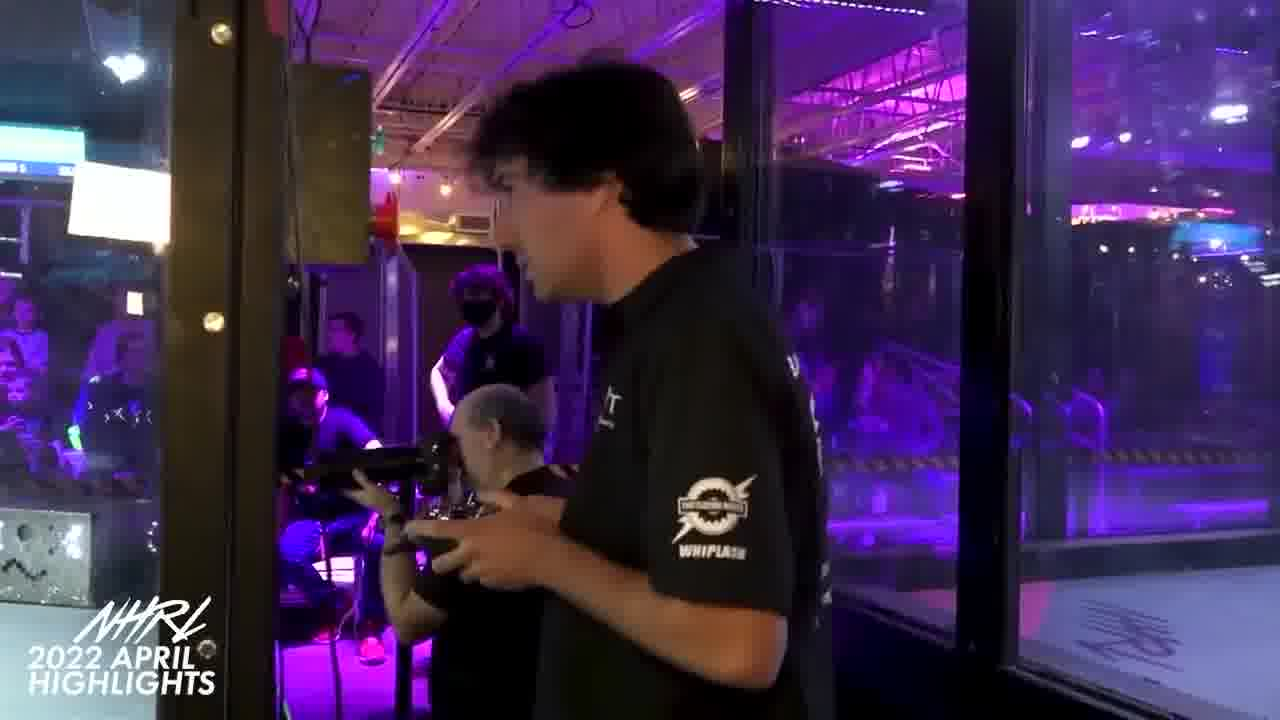housebot: (0, 497, 152, 609)
